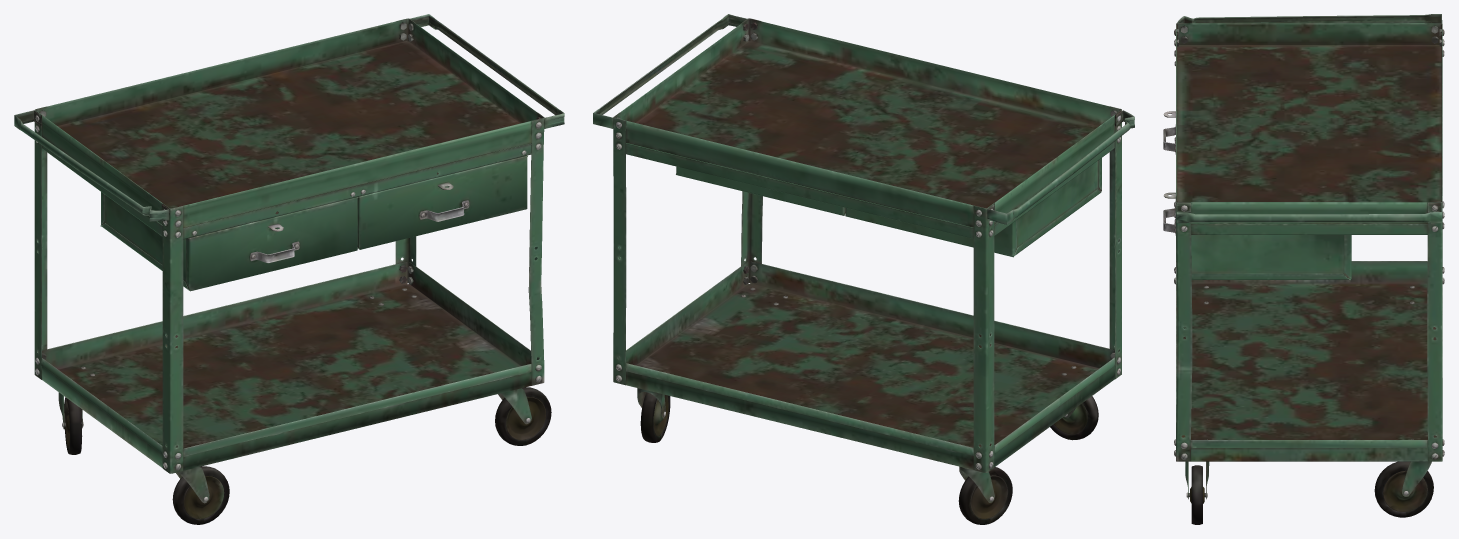
Rendered from tool_cart.glb.
3 renders of one model, left to right at view 1: azimuth 30°, elevation 25°; view 2: azimuth 150°, elevation 25°; view 3: azimuth 270°, elevation 25°, orthographic. The views are drawn at different scales.
Parts seen in each view (by area): view 1: tool_cart; view 2: tool_cart; view 3: tool_cart.
Boxes of the visible parts, box(x1,y1,x2,y2) form: tool_cart: box(14, 14, 564, 524); tool_cart: box(593, 14, 1134, 524); tool_cart: box(1163, 14, 1444, 524).
Size of the model in its own units: 1.27 by 0.9647 by 0.7537.
Materials: 1 (1 with a texture image).
